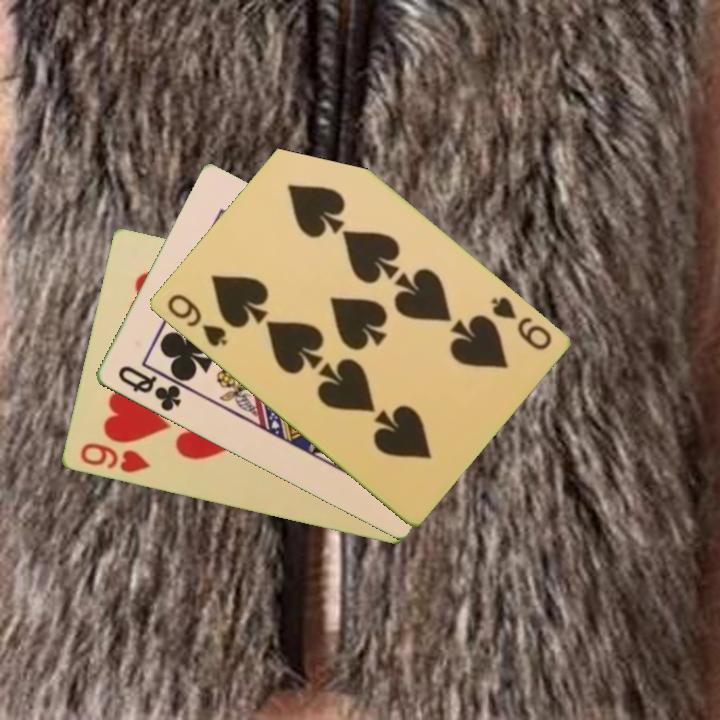9h: (76, 440, 153, 477)
9s: (486, 293, 554, 353), (163, 290, 230, 350)
Qc: (113, 362, 184, 415)
